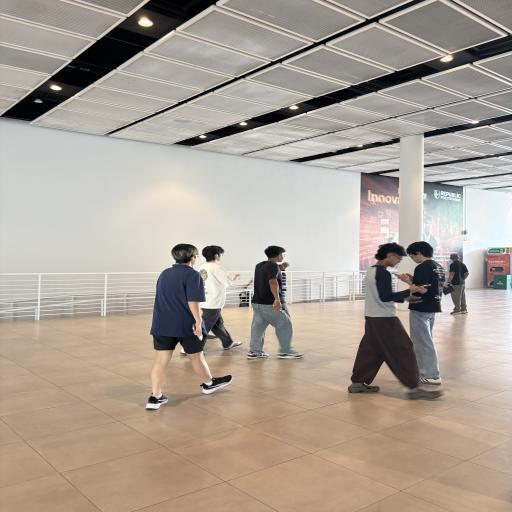person_left: (404, 238, 446, 380)
person_right: (140, 246, 231, 412), (360, 242, 430, 405), (251, 243, 314, 365), (192, 236, 238, 360)
